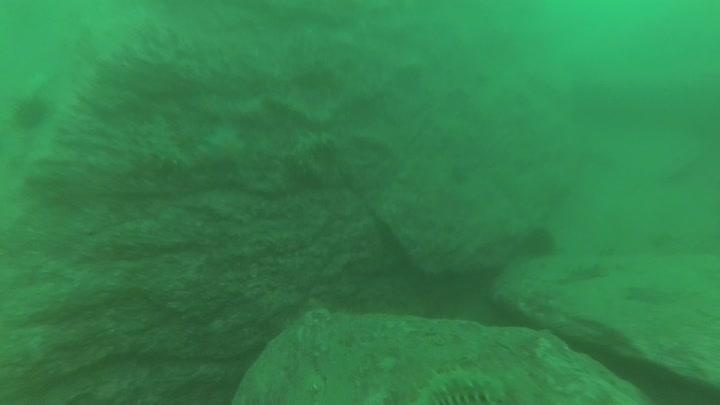echinus: (10, 93, 51, 132), (519, 224, 559, 261)
holothurian: (412, 363, 512, 405), (140, 110, 191, 172), (289, 128, 336, 182), (557, 258, 609, 285)
starfish: (199, 121, 250, 171), (622, 281, 668, 307)
